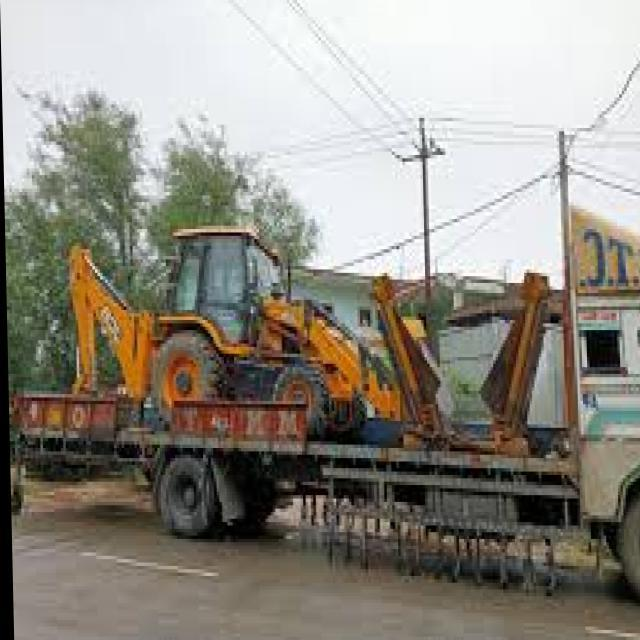uncovered: (19, 205, 640, 603)
